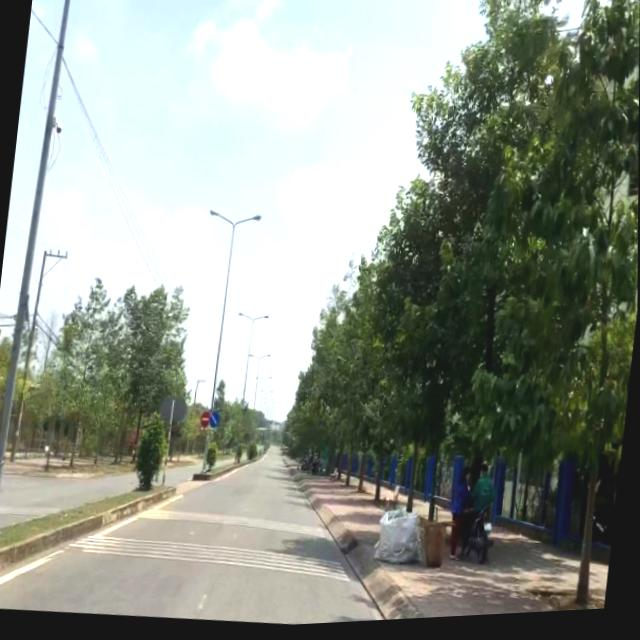Cam di nguoc chieu: (200, 413, 211, 430)
Vong chuong ngai vat sang phai: (209, 413, 219, 430)
